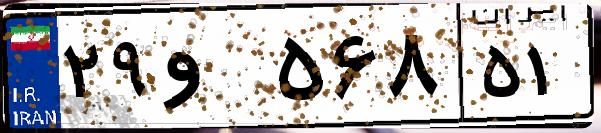1: (525, 38, 570, 115)
2: (57, 26, 110, 100)
5: (270, 28, 330, 110), (475, 38, 525, 113)
6: (330, 28, 385, 110)
8: (385, 28, 445, 110)
9: (110, 28, 158, 98)
و: (158, 20, 270, 120)
